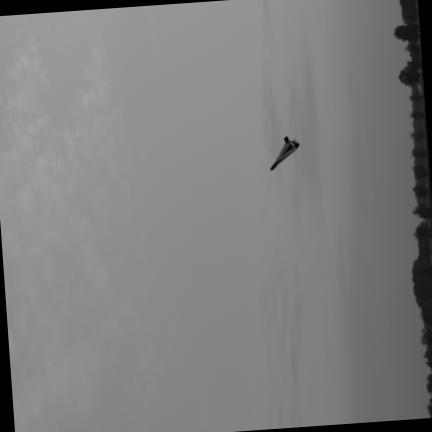Shahed: (270, 136, 298, 168)
